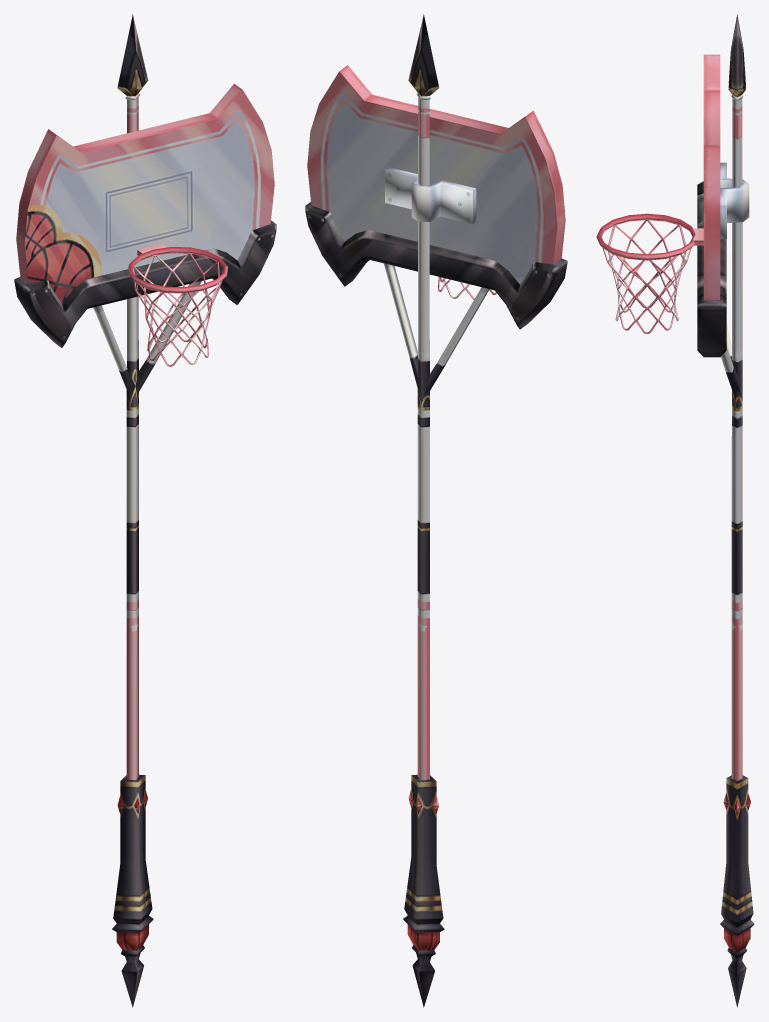
Rendered from Hero_Priscilla_Cos20SL_Weapon.fbx.
3 renders of one model, left to right at view 1: azimuth 30°, elevation 25°; view 2: azimuth 150°, elevation 25°; view 3: azimuth 270°, elevation 25°, orthographic.
Parts seen in each view (by area): view 1: Hero_Priscilla_Cos20SL_Weapon; view 2: Hero_Priscilla_Cos20SL_Weapon; view 3: Hero_Priscilla_Cos20SL_Weapon.
Part boxes in pixels (x1,y1,x2,y2): Hero_Priscilla_Cos20SL_Weapon: (14, 14, 276, 1007); Hero_Priscilla_Cos20SL_Weapon: (305, 14, 567, 1007); Hero_Priscilla_Cos20SL_Weapon: (596, 15, 754, 1007).
Bounding box in the file's own units: 0.607 × 2.27 × 0.3277.
1 material, 1 textured.
